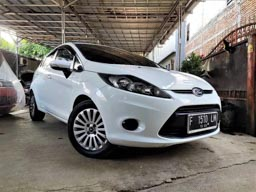plat: (189, 112, 218, 131)
